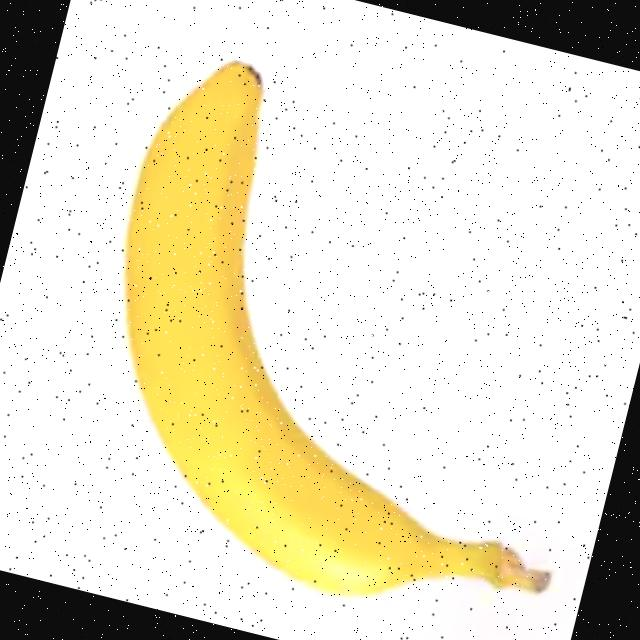banana: (50, 41, 640, 640)
